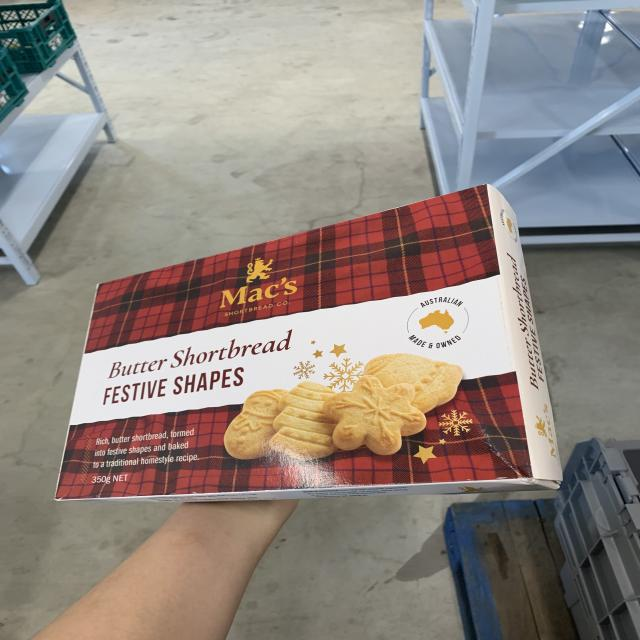object_name: (66, 198, 564, 493)
